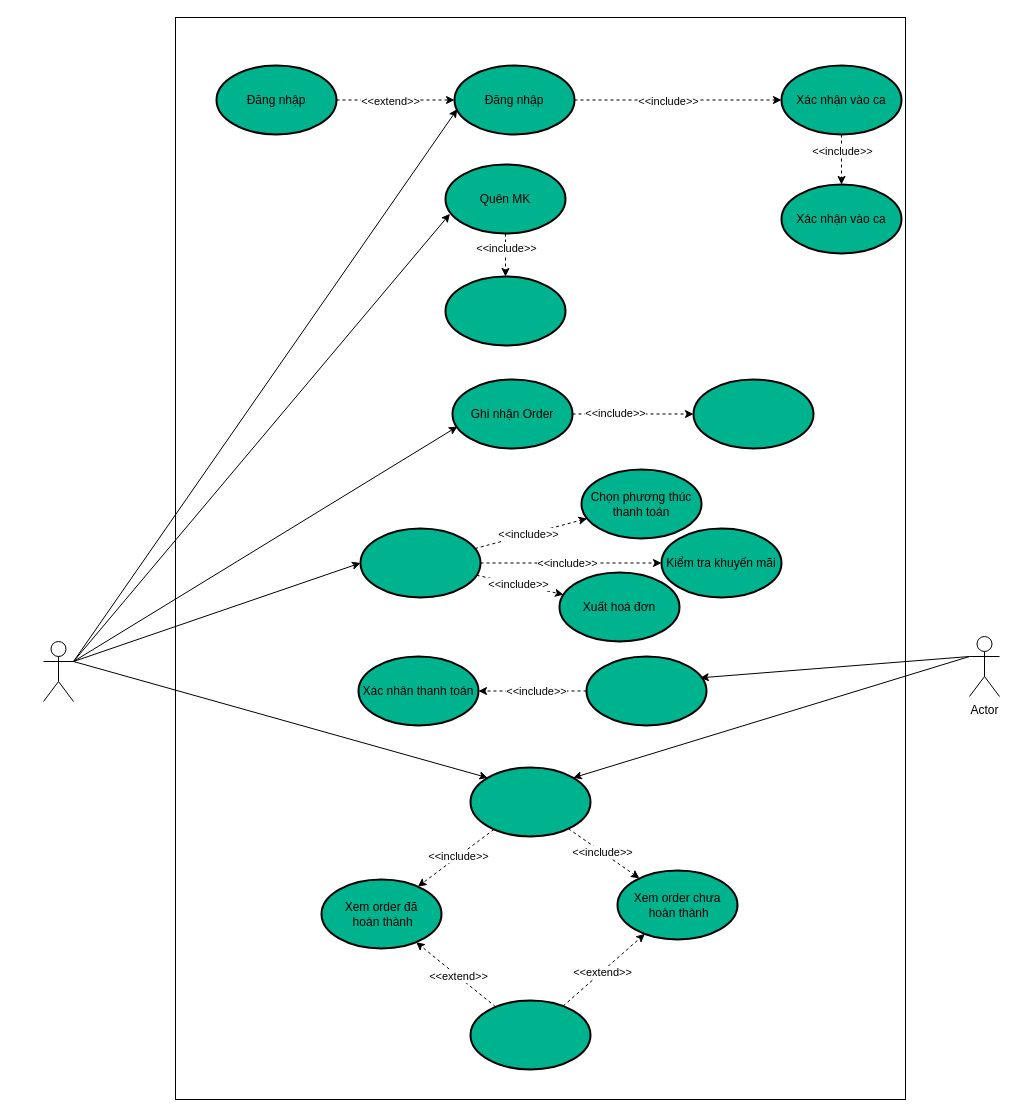
This 1017x1117 diagram has some shape labels left out. The box of each missing label's shape, as (x1, y1, x2, y2) in pixels:
Chọn order để làm: (585, 655, 707, 726)
Ghi nhận thông tin khách hàng: (692, 378, 814, 449)
nhân viên order: (42, 640, 74, 702)
Thanh toán: (359, 527, 481, 598)
Thay đổi MK: (444, 275, 566, 346)
Xem hoá đơn: (469, 999, 591, 1070)
Xem order: (469, 766, 591, 837)
